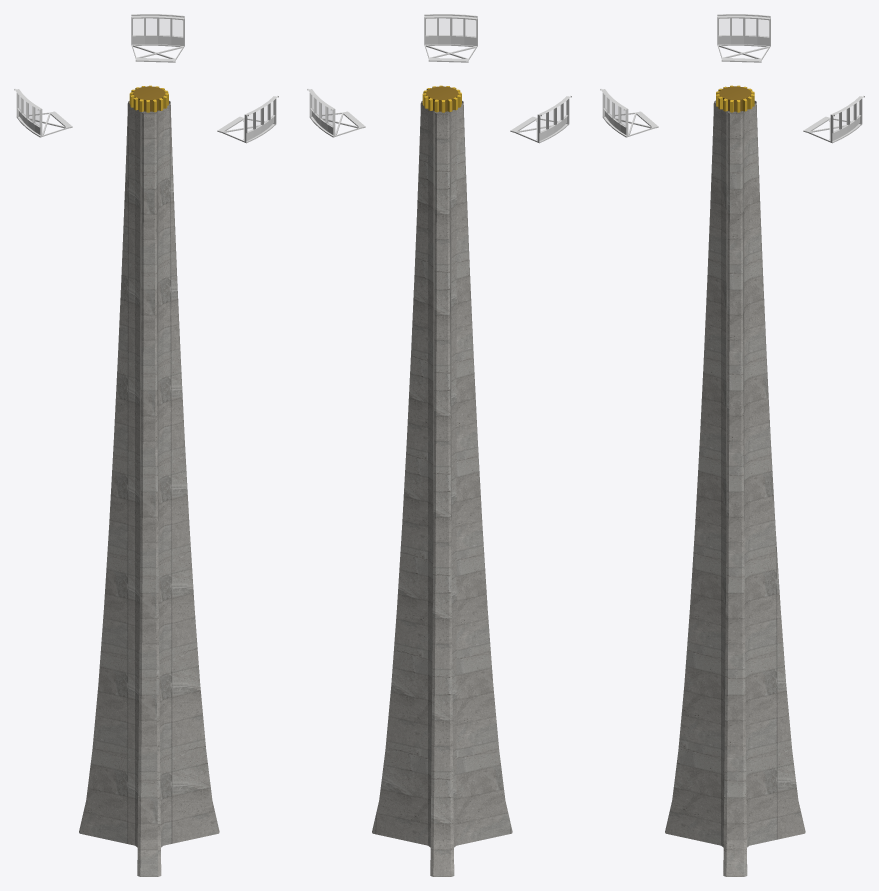
Rendered from mdl_zesty_room_pillar.gltf.
3 views of the same model, side by side, from view 1: azimuth 30°, elevation 25°; view 2: azimuth 150°, elevation 25°; view 3: azimuth 270°, elevation 25° (orthographic).
Visible parts, largest first — view 1: mdl_zesty_room_pillar; view 2: mdl_zesty_room_pillar; view 3: mdl_zesty_room_pillar.
Part boxes in pixels (x1,y1,x2,y2): mdl_zesty_room_pillar: (14,14,278,876); mdl_zesty_room_pillar: (307,14,571,876); mdl_zesty_room_pillar: (600,14,864,876).
Bounding box in the file's own units: 9.24 × 32.95 × 10.25.
Materials: 6 (1 with a texture image).
